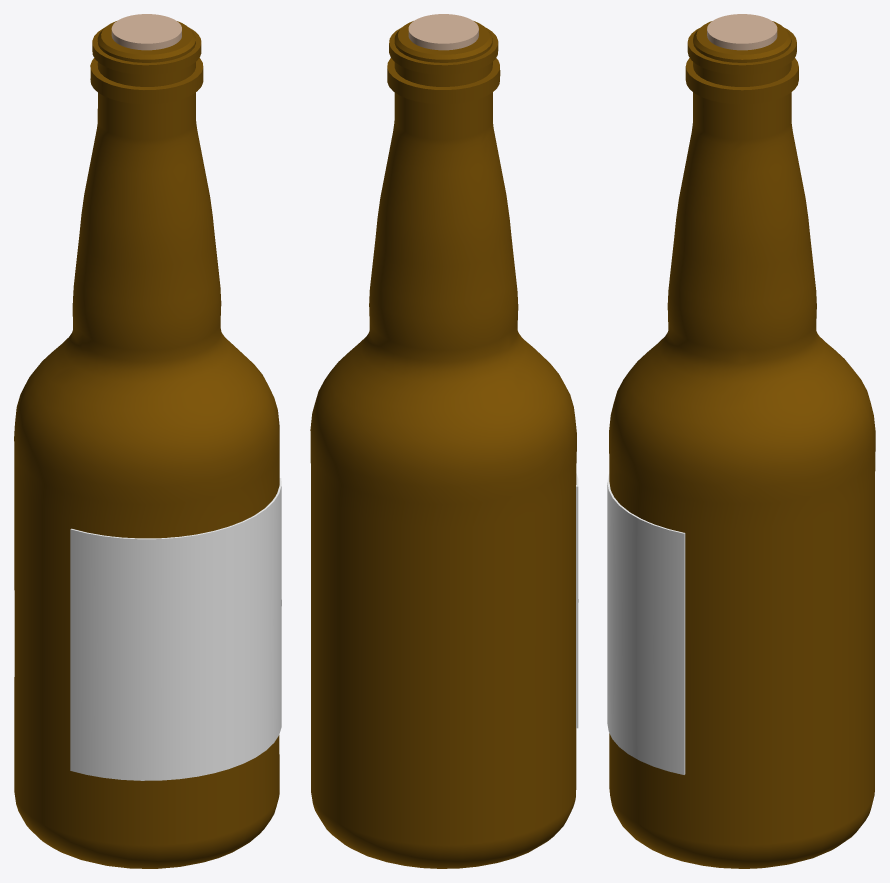
Rendered from 889_beerbottle.glb.
The picture shows the model from 3 angles, left to right: view 1: azimuth 30°, elevation 25°; view 2: azimuth 150°, elevation 25°; view 3: azimuth 270°, elevation 25°; orthographic projection.
Visible parts, largest first — view 1: Body, label, huta; view 2: Body, huta, label; view 3: Body, label, huta.
Boxes of the visible parts, x1=… form: Body: x1=14, y1=21, x2=279, y2=868; label: x1=70, y1=478, x2=281, y2=780; huta: x1=111, y1=14, x2=181, y2=50; Body: x1=310, y1=21, x2=576, y2=868; huta: x1=408, y1=14, x2=478, y2=50; label: x1=576, y1=473, x2=578, y2=728; Body: x1=609, y1=21, x2=875, y2=868; label: x1=607, y1=474, x2=685, y2=774; huta: x1=707, y1=14, x2=777, y2=50.
Bounding box in the file's own units: 0.0647 × 0.2136 × 0.0651.
